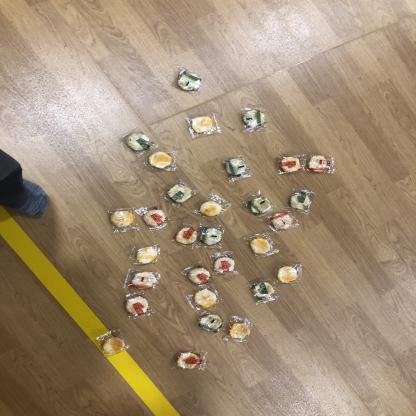green_setoshio: (172, 68, 204, 95), (120, 129, 156, 153), (221, 154, 252, 181), (194, 311, 225, 336), (166, 182, 198, 206), (244, 191, 274, 216), (241, 108, 269, 134), (196, 224, 224, 249), (290, 189, 317, 214), (250, 280, 278, 304)
red_setoshio: (172, 348, 209, 373), (123, 268, 161, 292), (121, 294, 154, 319), (307, 152, 338, 175), (184, 263, 212, 286), (268, 210, 297, 232), (142, 205, 167, 229), (278, 154, 305, 176), (213, 252, 237, 275), (175, 226, 200, 248)
yellow_setoshio: (94, 329, 132, 358), (187, 112, 223, 140), (104, 206, 140, 233), (144, 150, 181, 174), (242, 233, 279, 257), (225, 314, 254, 344), (196, 196, 232, 219), (188, 286, 221, 310), (275, 263, 303, 286), (132, 245, 160, 265)
